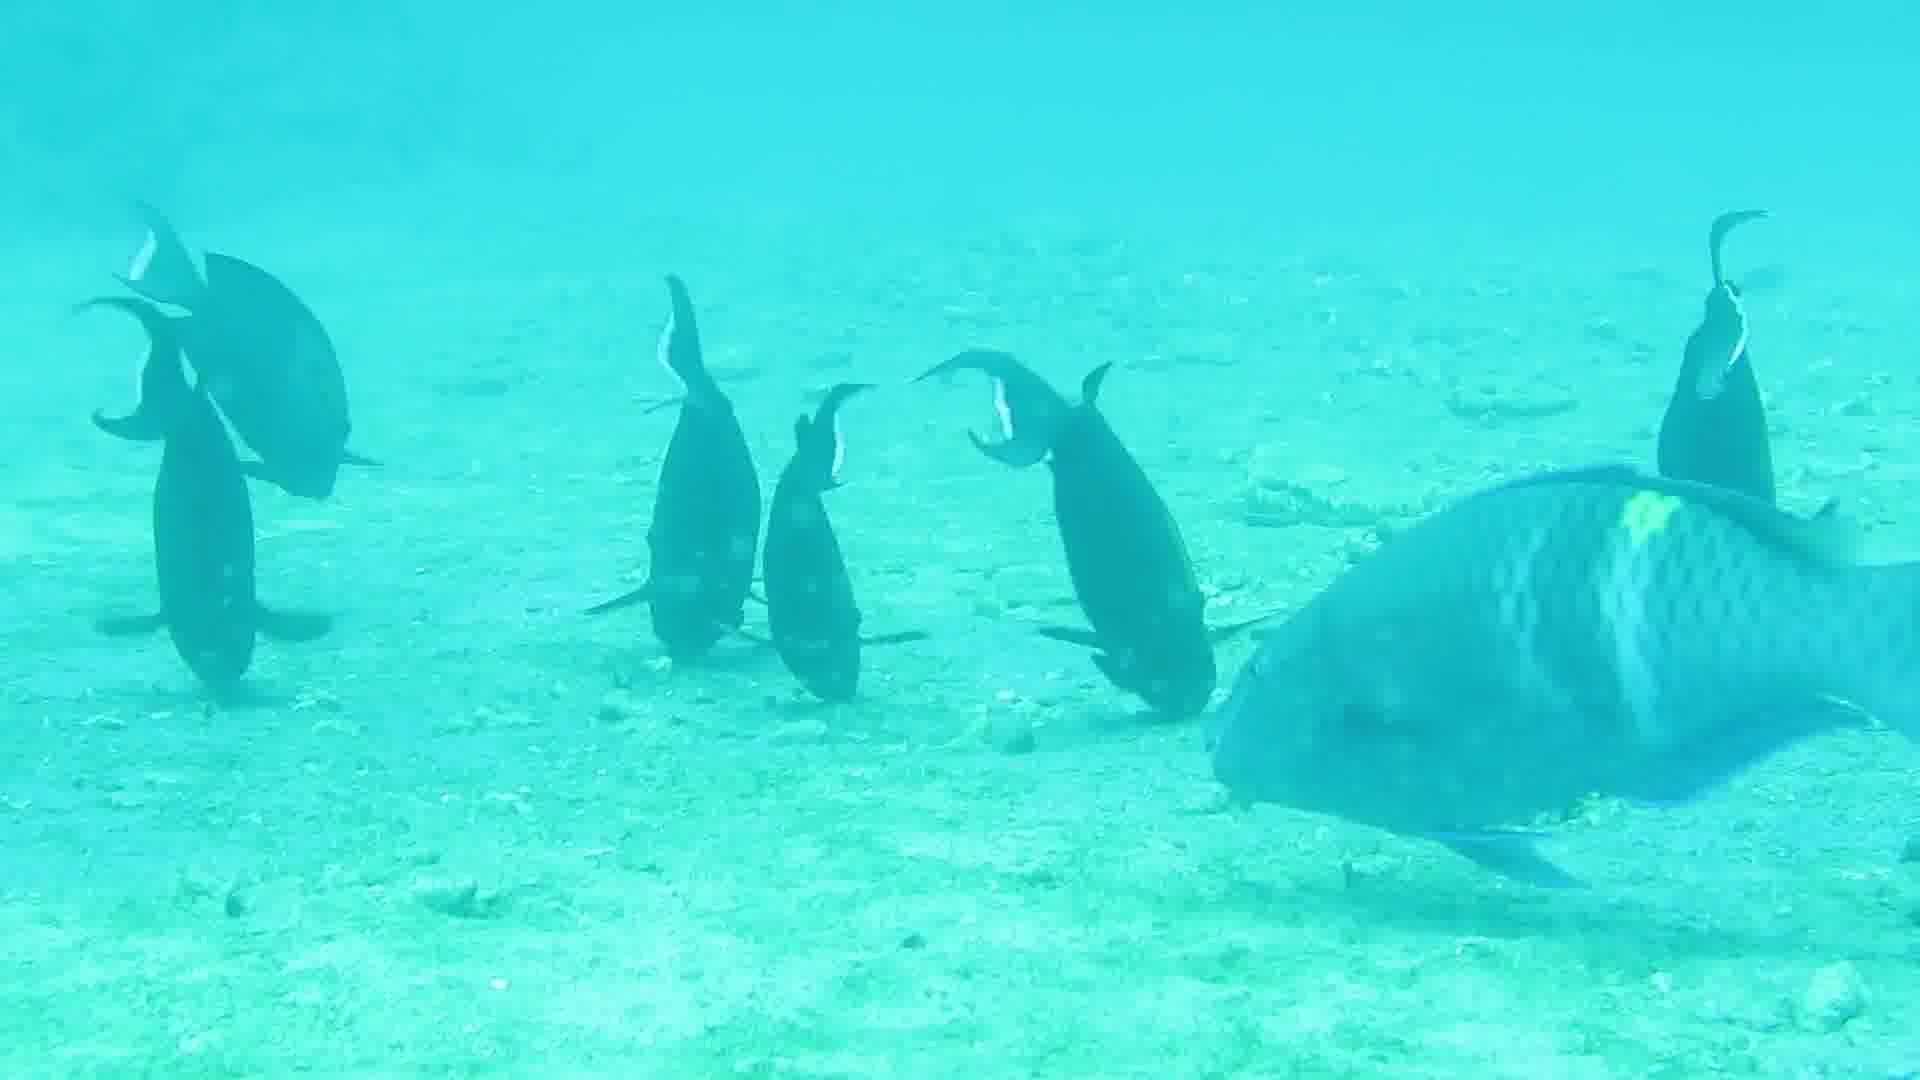Acanthurus olivaceus: (1208, 459, 1920, 828), (960, 313, 1218, 728), (80, 363, 289, 762), (144, 140, 363, 498), (553, 316, 769, 676), (754, 410, 874, 698)
